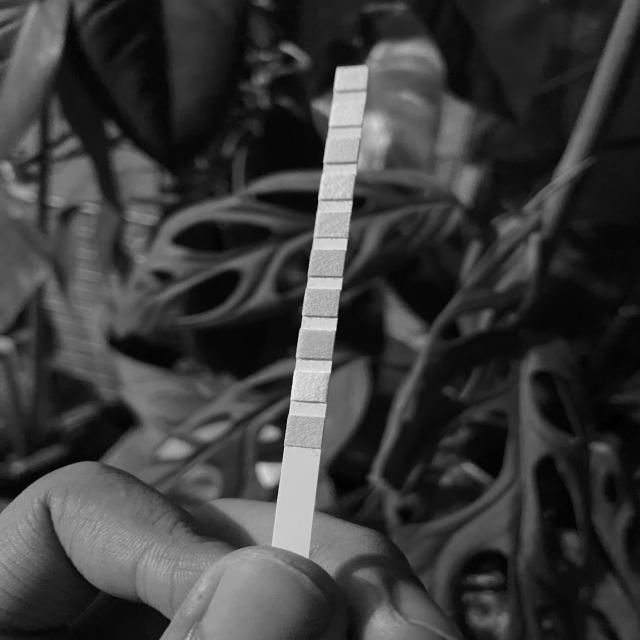Bilirubin: (294, 373, 326, 400)
Blood: (313, 250, 342, 276)
Glucose: (288, 418, 321, 445)
Ketone: (300, 331, 332, 357)
Leukocytes: (336, 68, 366, 88)
Nitrite: (333, 108, 362, 125)
Protein: (321, 176, 352, 198)
SpGravity: (306, 289, 337, 315)
Urobilinogen: (327, 140, 357, 162)
background: (0, 0, 640, 640)
pH: (317, 213, 348, 237)
strip: (274, 66, 368, 531)
